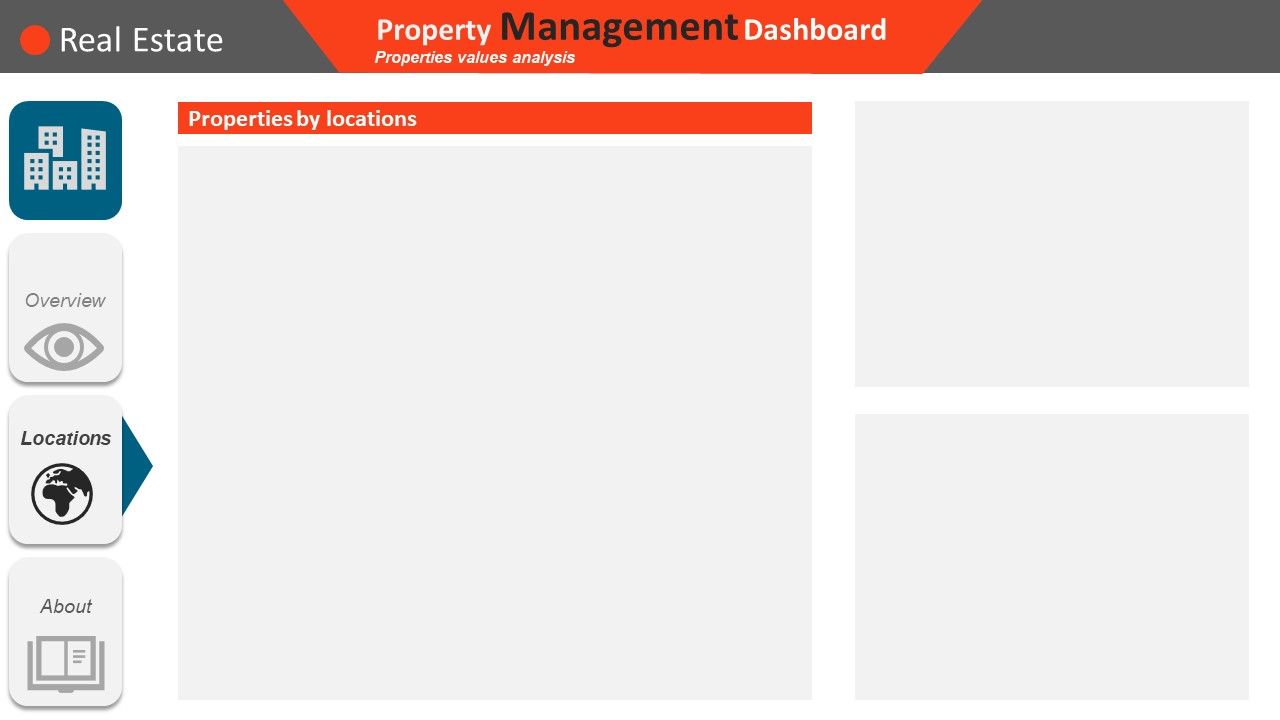

Layout of this report page (visuals, bound fields, positions):
{"tool":"powerbi","page":{"name":"Locations","canvas":[1280,720],"ordinal":1},"visuals":[{"type":"map","fields":{"Category":["dim_property_location.property location"],"Size":["Measure.Total Properties"]},"box":[182.7,146.7,629.3,553.3],"z":0},{"type":"pivotTable","title":"Total Properties and It''s Conditions Across States","fields":{"Rows":["dim_property_location.property location"],"Columns":["dim_condition.condition"],"Values":["Measure.Total Properties"]},"box":[866.7,102.7,393.3,286.7],"z":1000},{"type":"pivotTable","title":"Total Properties and It''s Conditions Across States","fields":{"Columns":["dim_condition.condition"],"Values":["Measure.Total Properties"],"Rows":["dim_floors.floors"]},"box":[866.7,420,382.7,276],"z":2000},{"type":"actionButton","box":[11.4,231.4,108.6,147.1],"z":3000},{"type":"actionButton","box":[11.4,398.6,108.6,147.1],"z":4000},{"type":"actionButton","box":[11.4,561.4,108.6,147.1],"z":5000}]}

Visuals, with their boxes in screenshot pixels (x1, y1, x2, y2), scaled from the page's 1280x720 canvas onto the 1280x720 screenshot:
map - dim_property_location.property location x Measure.Total Properties: 183/147/812/700
"Total Properties and It''s Conditions Across States" pivotTable: 867/103/1260/389
"Total Properties and It''s Conditions Across States" pivotTable: 867/420/1249/696
actionButton: 11/231/120/378
actionButton: 11/399/120/546
actionButton: 11/561/120/708
